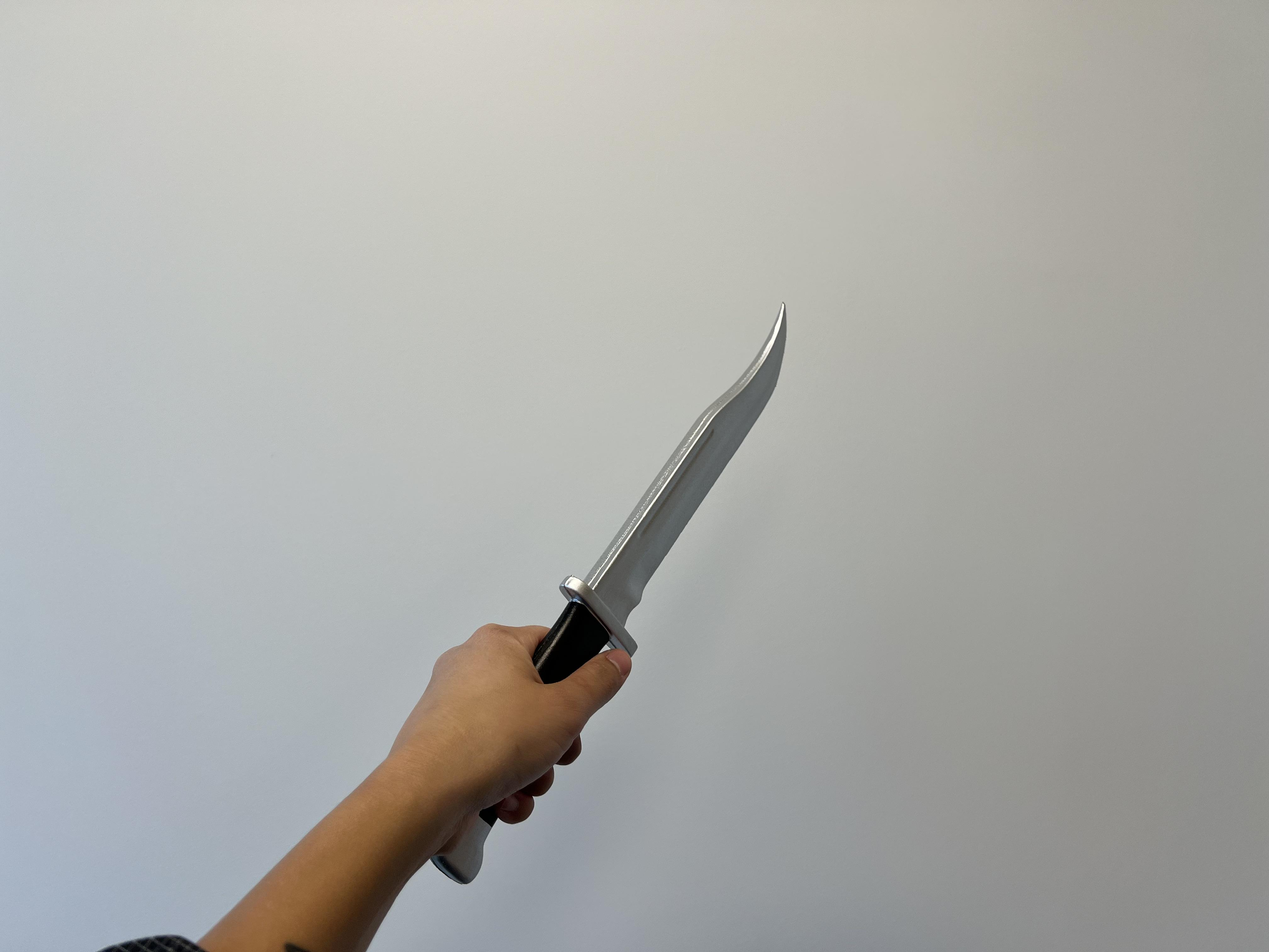Knife: (143, 624, 634, 952), (555, 305, 794, 655), (399, 623, 632, 857)
